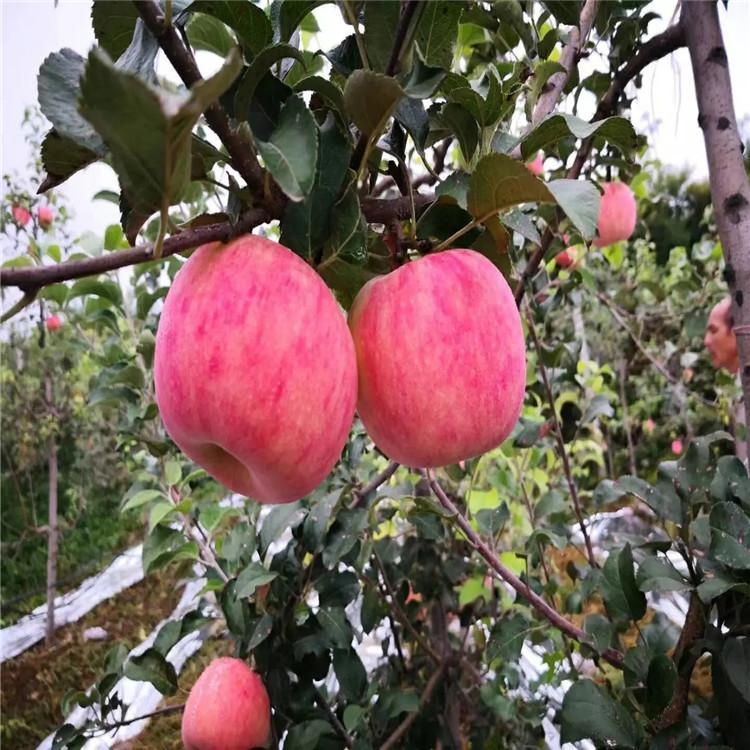apple: (153, 232, 359, 506), (348, 247, 529, 472)
